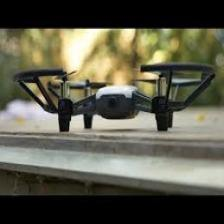drone: (17, 63, 214, 130)
